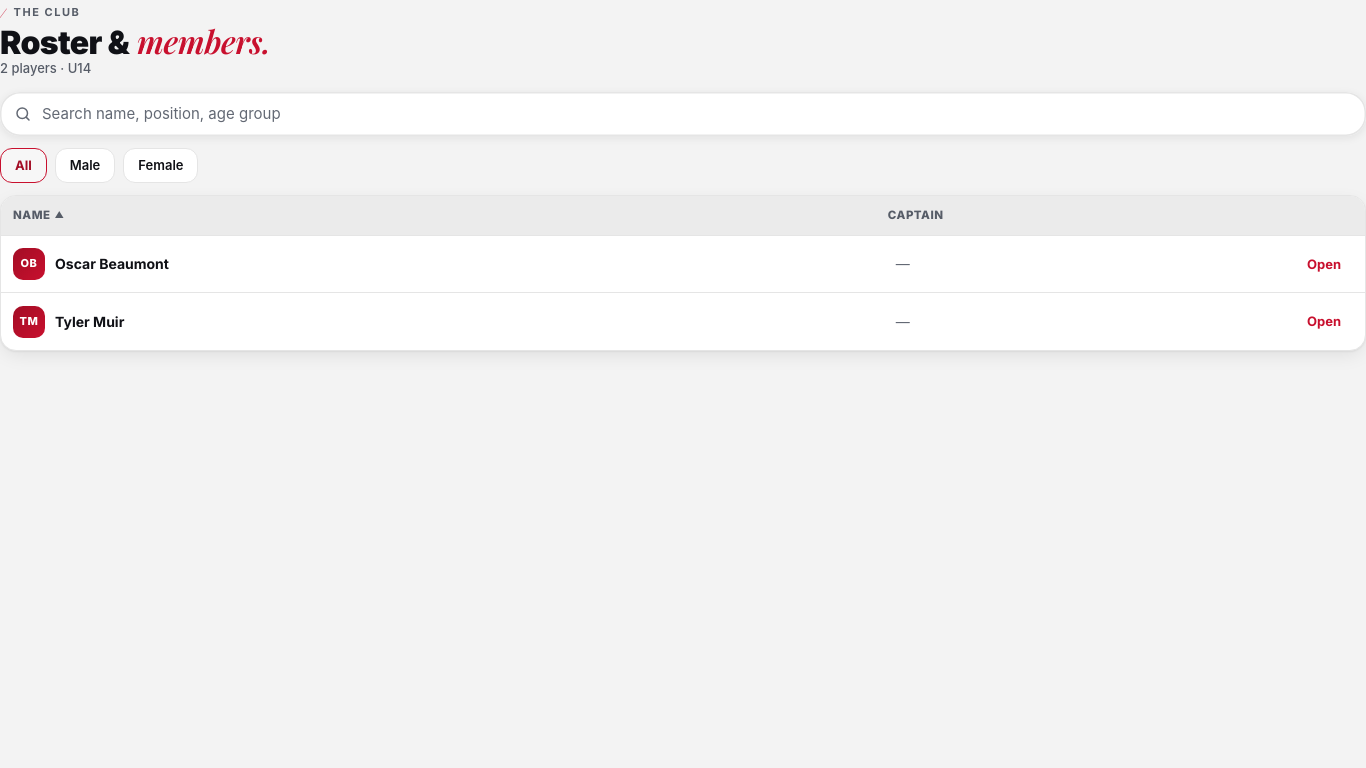
Scenario: Self-service profile editing › offers a parent nothing on somebody else's child
Click the button "OB Oscar Beaumont". click: (91, 264)
box: [13,248,169,280]
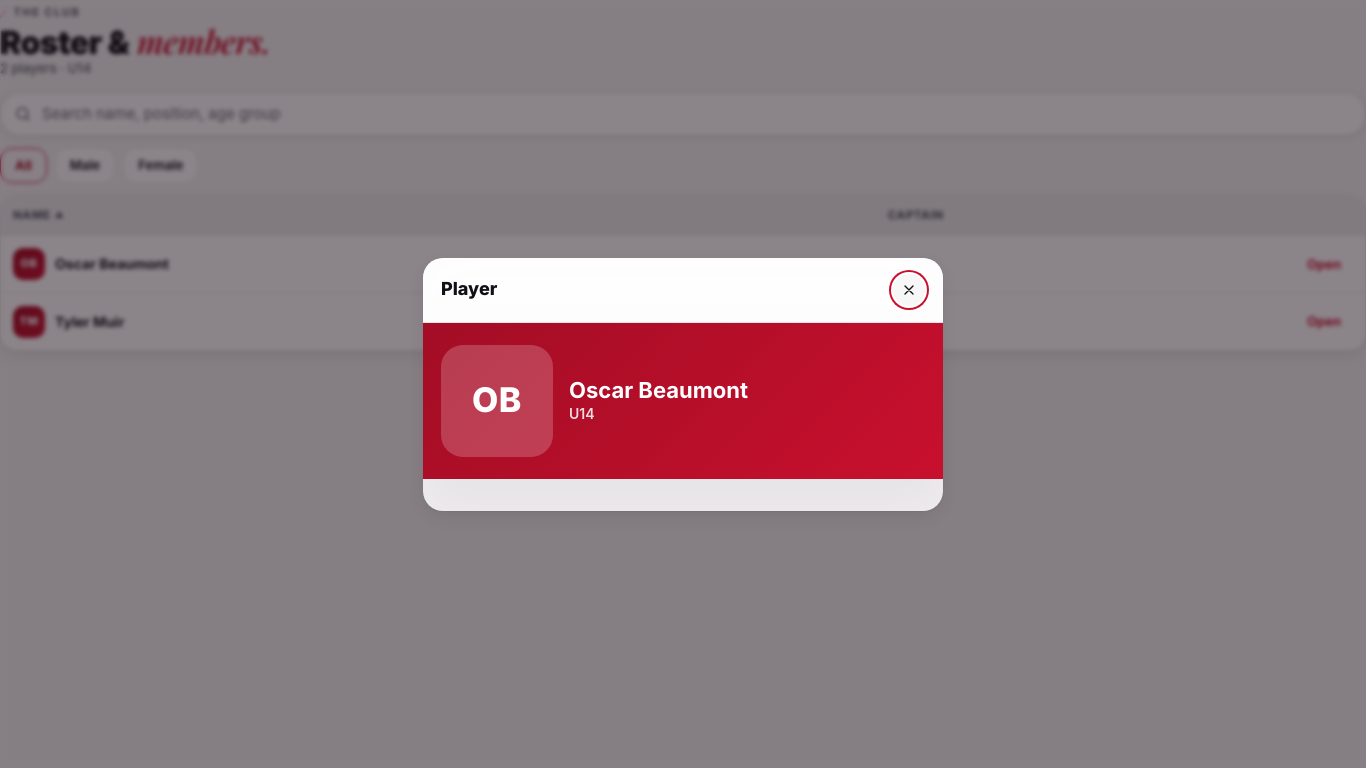
Expected: the dialog is shown, [423,258,943,510]
